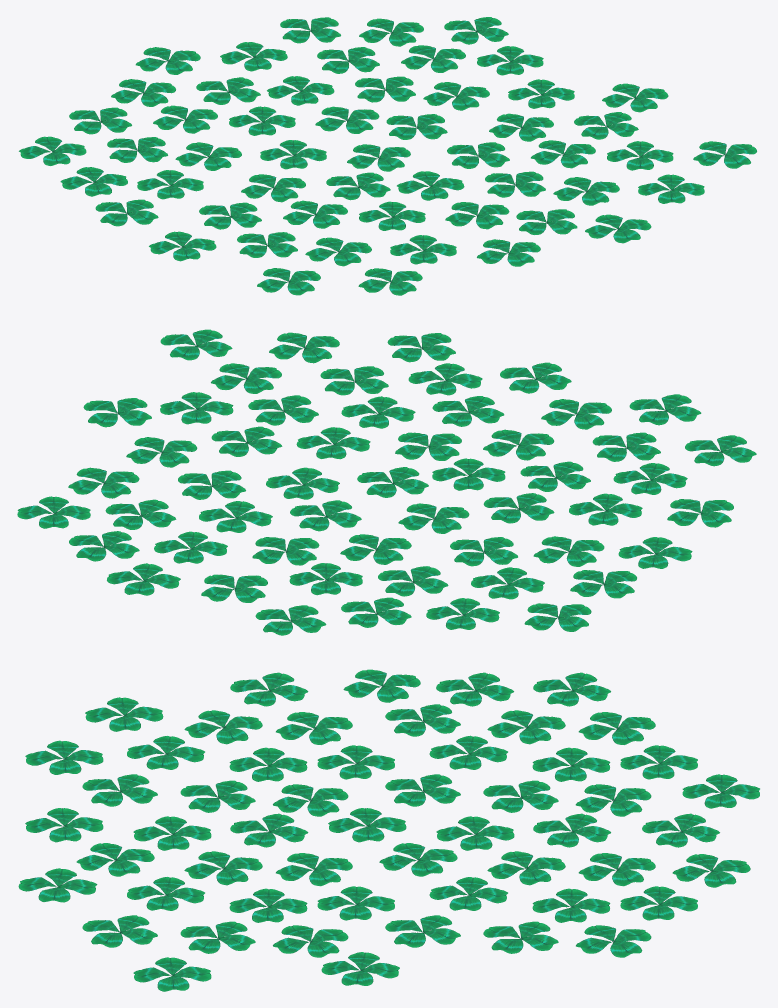
The model's file is CloverCluster.fbx.
3 renders of one model, top to bottom at view 1: azimuth 30°, elevation 25°; view 2: azimuth 150°, elevation 25°; view 3: azimuth 270°, elevation 25°, orthographic. The views are drawn at different scales.
Parts seen in each view (by area): view 1: Clover Green020; view 2: Clover Green020; view 3: Clover Green020.
Part boxes in pixels (bbox=[...]): Clover Green020: bbox=[19, 17, 756, 295]; Clover Green020: bbox=[17, 329, 756, 635]; Clover Green020: bbox=[18, 669, 759, 991].
Bounding box in the file's own units: 51.42 × 0.2714 × 49.88.
